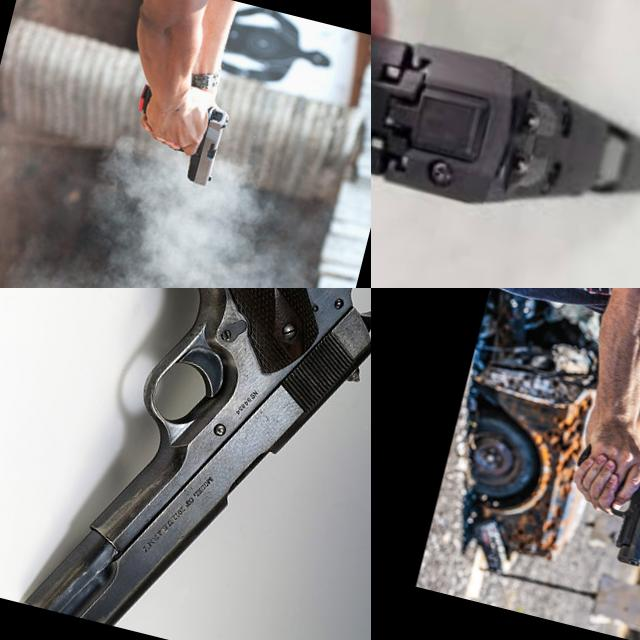handgun: (13, 288, 371, 640), (371, 2, 640, 257), (120, 81, 233, 190), (587, 444, 640, 572)
